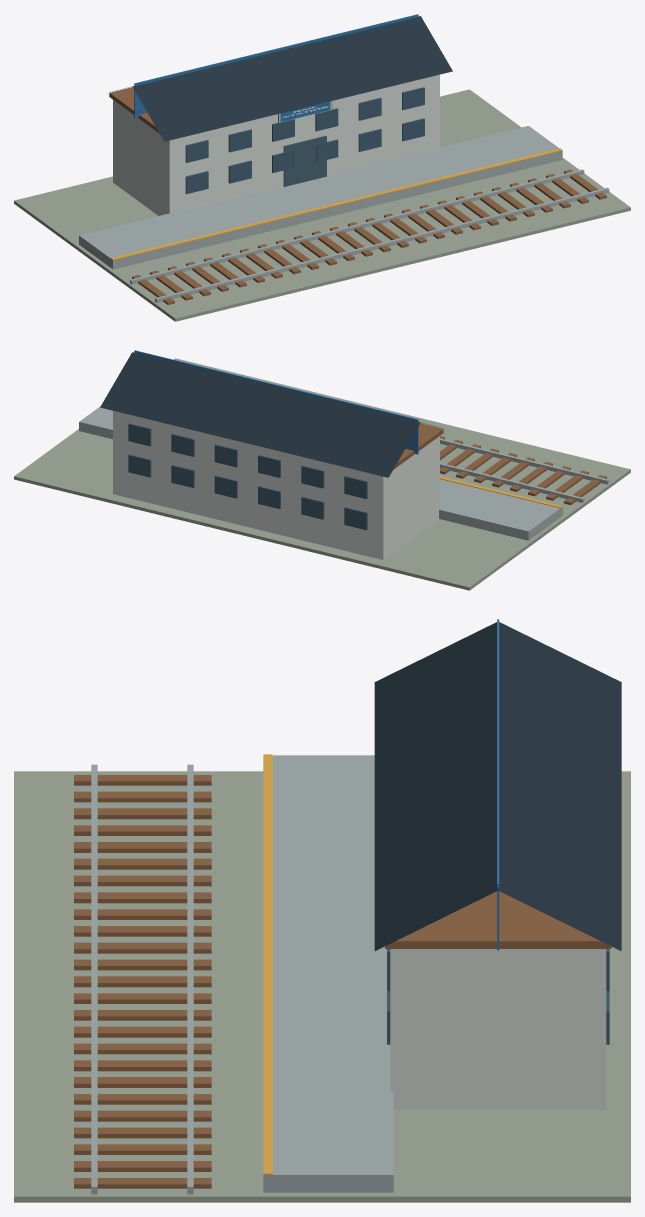
File: scendance-plan-train-station.glb
3 renders of one model, top to bottom at view 1: azimuth 30°, elevation 25°; view 2: azimuth 150°, elevation 25°; view 3: azimuth 270°, elevation 25°, orthographic. The views are drawn at different scales.
Size of the model in its own units: 15 by 3.92 by 9.2.
10 materials, 1 textured.
